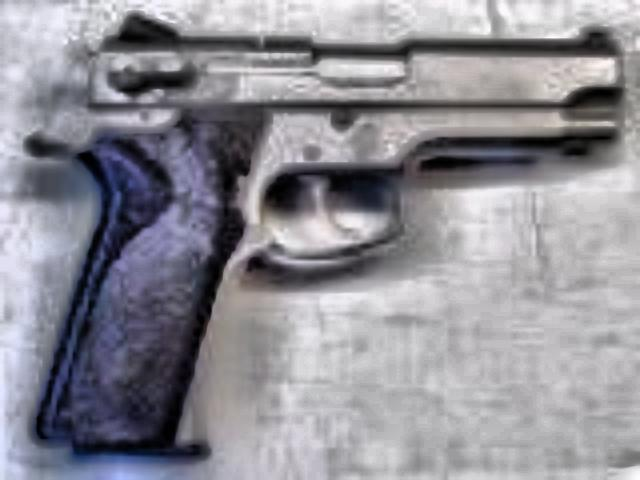pistol: (12, 8, 624, 460)
